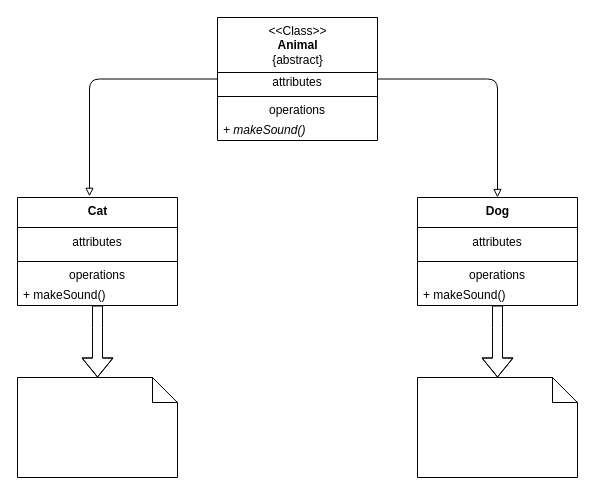
Image size: 595x495. Some labels were removed from this diagram. The shapes that lost their labels are listed below. From the top down, each one's centre as x and y in pixels, then its label:
the point at 97,427: public function makeSound() { echo "meow"; }
the point at 497,427: public function makeSound() { echo "bark"; }
